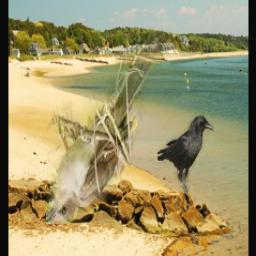Crow: (158, 115, 214, 196)
Cuckoo: (45, 24, 172, 224)
